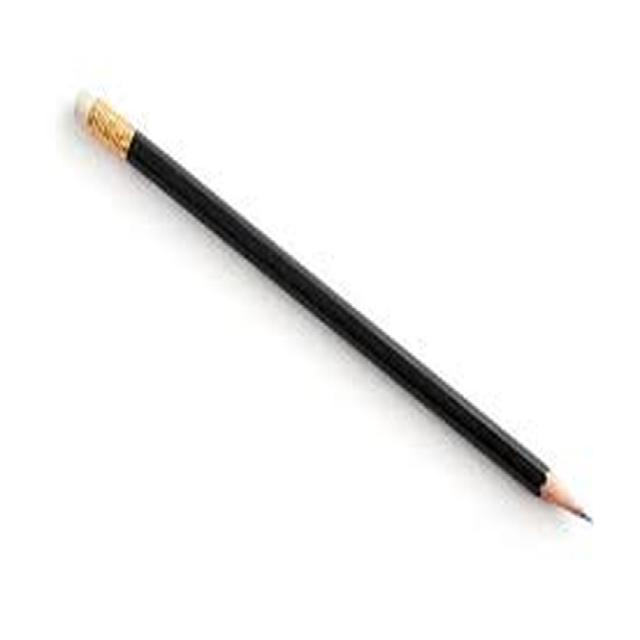pen: (44, 82, 616, 562)
